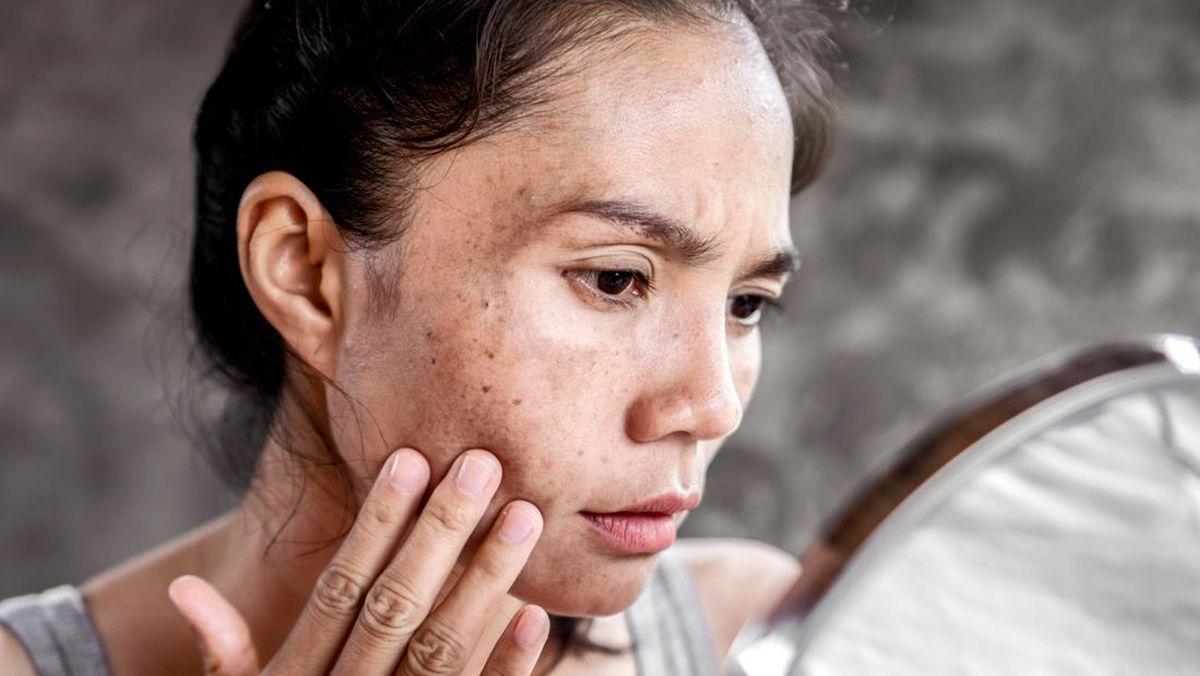Dry-Skin: (451, 386, 542, 460), (486, 153, 552, 233), (421, 296, 479, 386)
